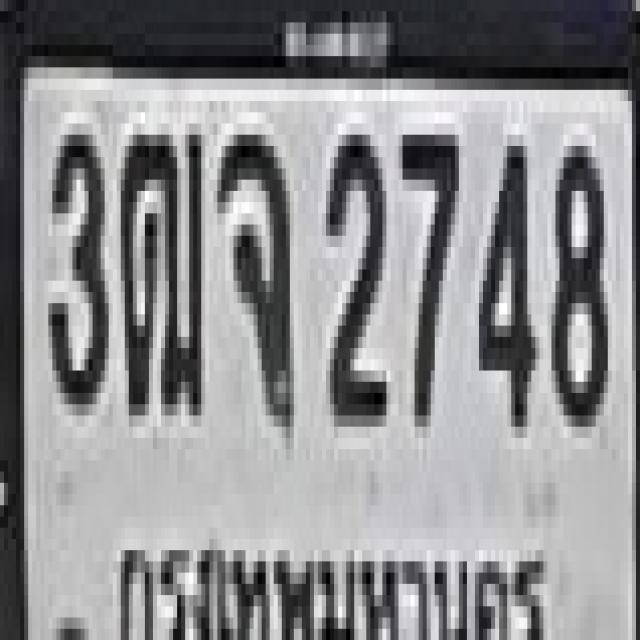2: (322, 124, 382, 416)
3: (44, 124, 105, 404)
4: (475, 129, 531, 421)
7: (398, 124, 455, 416)
8: (547, 135, 604, 415)
A08: (213, 124, 290, 416)
A18: (117, 112, 197, 404)
BKK: (115, 522, 557, 640)
